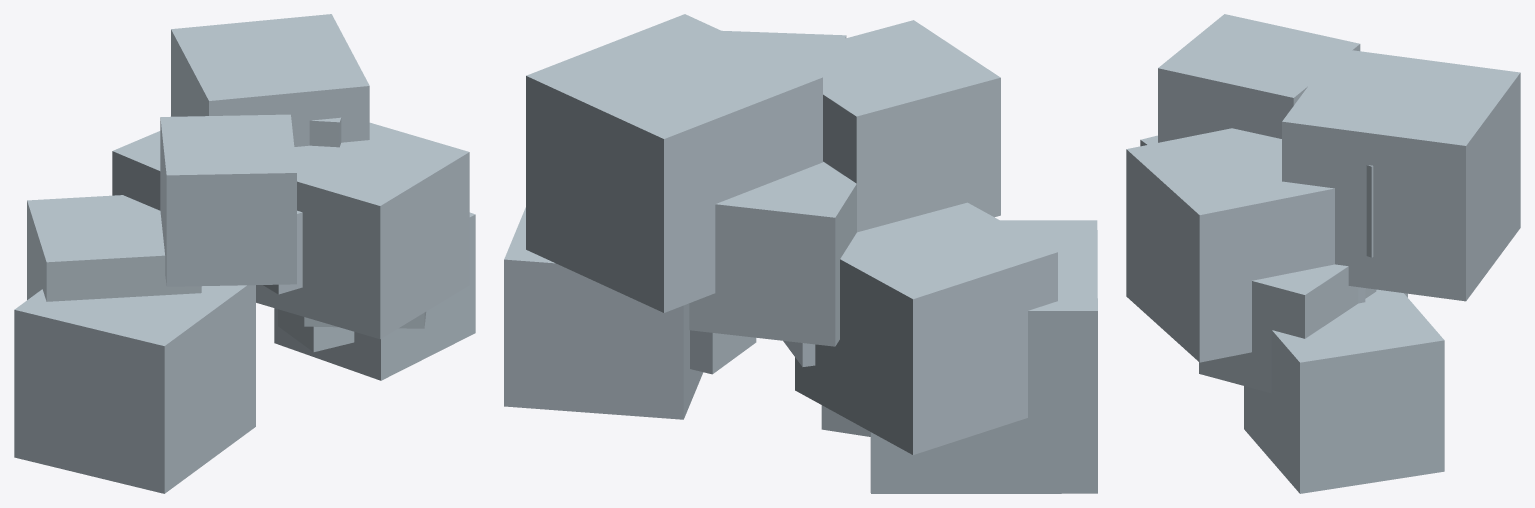
The model's file is snowpuff.glb.
3 views of the same model, side by side, from view 1: azimuth 30°, elevation 25°; view 2: azimuth 150°, elevation 25°; view 3: azimuth 270°, elevation 25° (orthographic). The views are drawn at different scales.
Parts seen in each view (by area): view 1: Snow Puff dimensional effect.001; view 2: Snow Puff dimensional effect.001; view 3: Snow Puff dimensional effect.001.
Boxes of the visible parts, box(x1,y1,x2,y2) form: Snow Puff dimensional effect.001: box(14, 14, 475, 493); Snow Puff dimensional effect.001: box(504, 14, 1097, 493); Snow Puff dimensional effect.001: box(1126, 14, 1520, 493).
Size of the model in its own units: 1.9 by 1.17 by 1.28.
